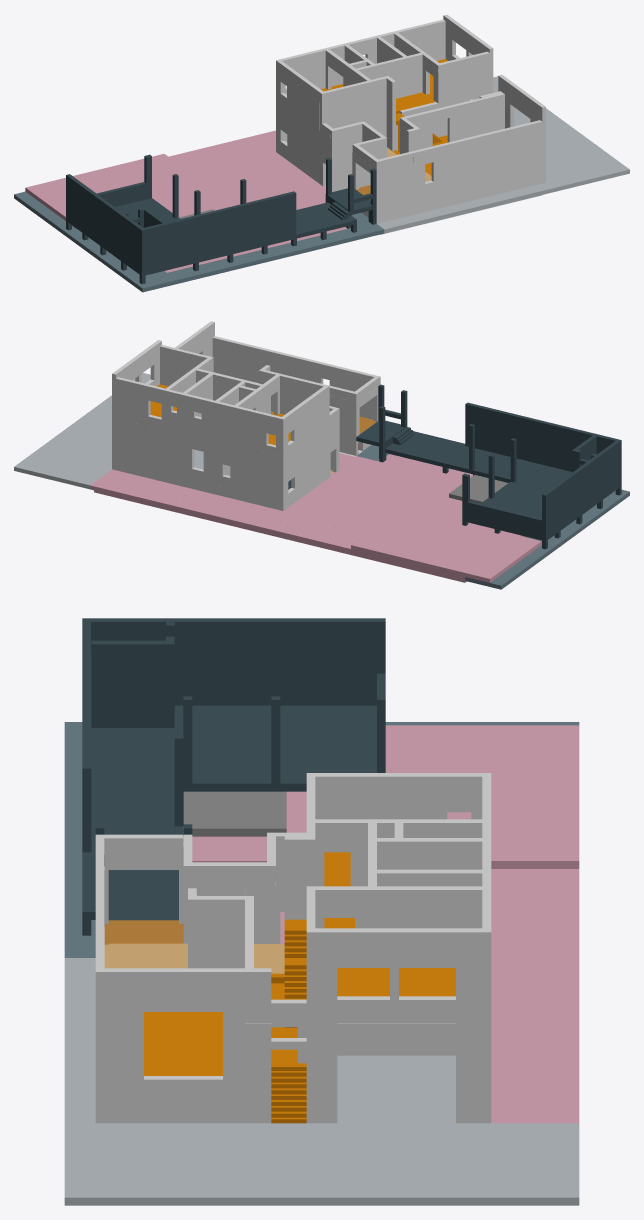
Rendered from casa1.gltf.
3 views of the same model, one above another, from view 1: azimuth 30°, elevation 25°; view 2: azimuth 150°, elevation 25°; view 3: azimuth 270°, elevation 25° (orthographic). The views are drawn at different scales.
Parts seen in each view (by area): view 1: node_MeshObject1824198336-PolyPaper13, node_MeshObject-285848512-PolyPaper17; view 2: node_MeshObject1824198336-PolyPaper13, node_MeshObject-285848512-PolyPaper17; view 3: node_MeshObject1824198336-PolyPaper13, node_MeshObject-285848512-PolyPaper17.
Boxes of the visible parts, bbox=[...] form: node_MeshObject1824198336-PolyPaper13: bbox=[14, 14, 610, 292]; node_MeshObject-285848512-PolyPaper17: bbox=[50, 31, 629, 289]; node_MeshObject1824198336-PolyPaper13: bbox=[33, 336, 629, 589]; node_MeshObject-285848512-PolyPaper17: bbox=[14, 321, 621, 586]; node_MeshObject1824198336-PolyPaper13: bbox=[64, 618, 579, 1179]; node_MeshObject-285848512-PolyPaper17: bbox=[64, 622, 579, 1205].
Size of the model in its own units: 2.56 by 0.55 by 1.17.
